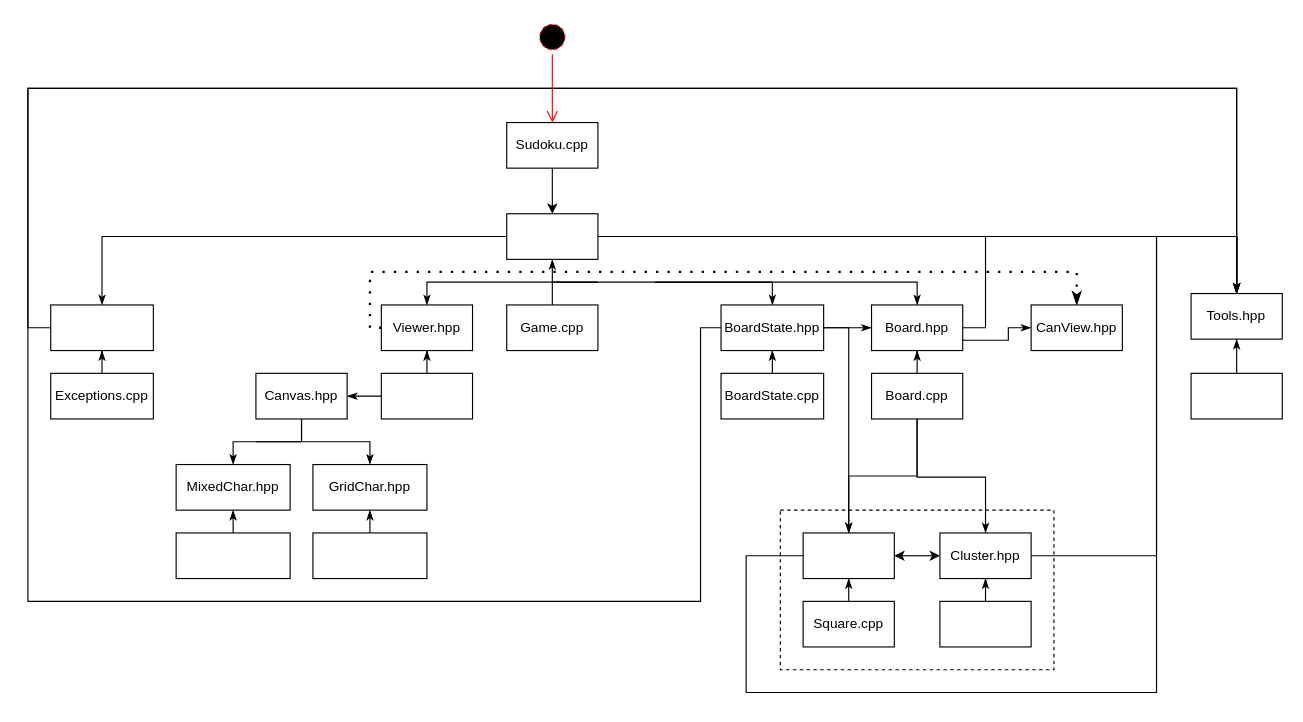
Some shapes in this 1303 by 722 pixel diagram are drawn without their labels. The shapes that lost their labels are listed below. From the top down, each one's centre as x and y in pixels, then its label:
At [552,236]: "Game.hpp".
At [101,327]: "Exceptions.hpp".
At [426,395]: "Viewer.cpp".
At [1236,395]: "Tools.cpp".
At [232,555]: "MixedChar.cpp".
At [369,555]: "GridChar.cpp".
At [848,555]: "Square.hpp".
At [985,623]: "Cluster.cpp".
